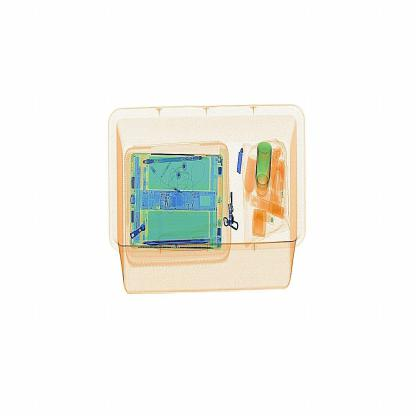wrench: (140, 234, 214, 259)
